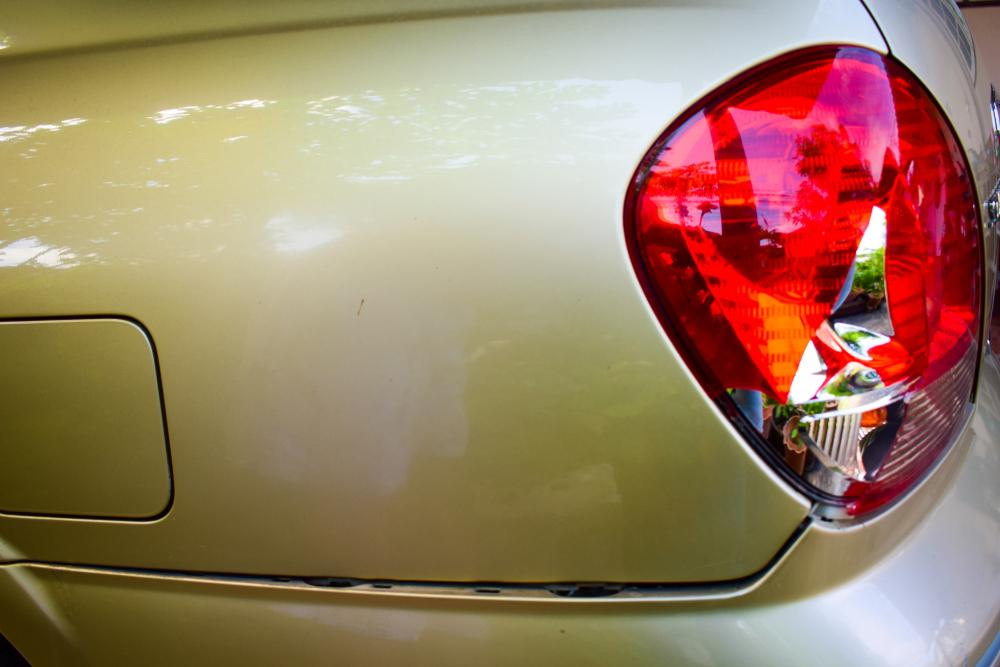lamp broken: (623, 45, 983, 525)
